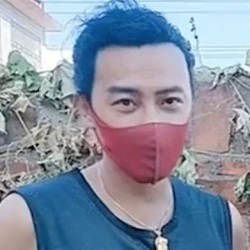mask: (78, 96, 193, 186)
